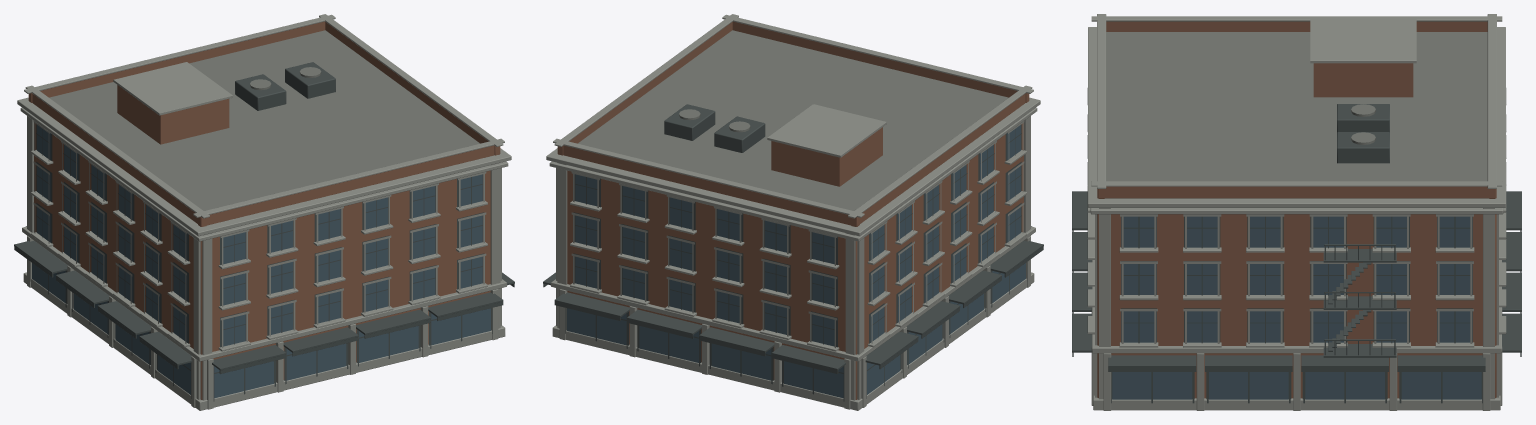
The model's file is brick_lowrise.glb.
3 views of the same model, side by side, from view 1: azimuth 30°, elevation 25°; view 2: azimuth 150°, elevation 25°; view 3: azimuth 270°, elevation 25° (orthographic). The views are drawn at different scales.
Parts seen in each view (by area): view 1: Weathered_pale_concrete.002, Fired_umber_brick.001, Slate_roofing.002, Smoked_blue_glazing.002, Painted_charcoal_steel.002; view 2: Weathered_pale_concrete.002, Fired_umber_brick.001, Slate_roofing.002, Smoked_blue_glazing.002, Painted_charcoal_steel.002; view 3: Slate_roofing.002, Weathered_pale_concrete.002, Fired_umber_brick.001, Smoked_blue_glazing.002, Painted_charcoal_steel.002.
Boxes of the visible parts, <box> form: Weathered_pale_concrete.002: <box>17,14,511,410</box>; Fired_umber_brick.001: <box>28,21,500,399</box>; Slate_roofing.002: <box>49,30,479,210</box>; Smoked_blue_glazing.002: <box>32,125,490,398</box>; Painted_charcoal_steel.002: <box>14,62,514,401</box>; Weathered_pale_concrete.002: <box>546,14,1040,410</box>; Fired_umber_brick.001: <box>557,21,1029,399</box>; Slate_roofing.002: <box>578,30,1008,210</box>; Smoked_blue_glazing.002: <box>567,125,1025,398</box>; Painted_charcoal_steel.002: <box>543,104,1043,401</box>; Slate_roofing.002: <box>1105,32,1488,198</box>; Weathered_pale_concrete.002: <box>1087,14,1506,410</box>; Fired_umber_brick.001: <box>1097,21,1496,398</box>; Smoked_blue_glazing.002: <box>1112,216,1481,399</box>; Painted_charcoal_steel.002: <box>1072,104,1521,403</box>.
Size of the model in its own units: 27.23 by 16.53 by 27.05.
